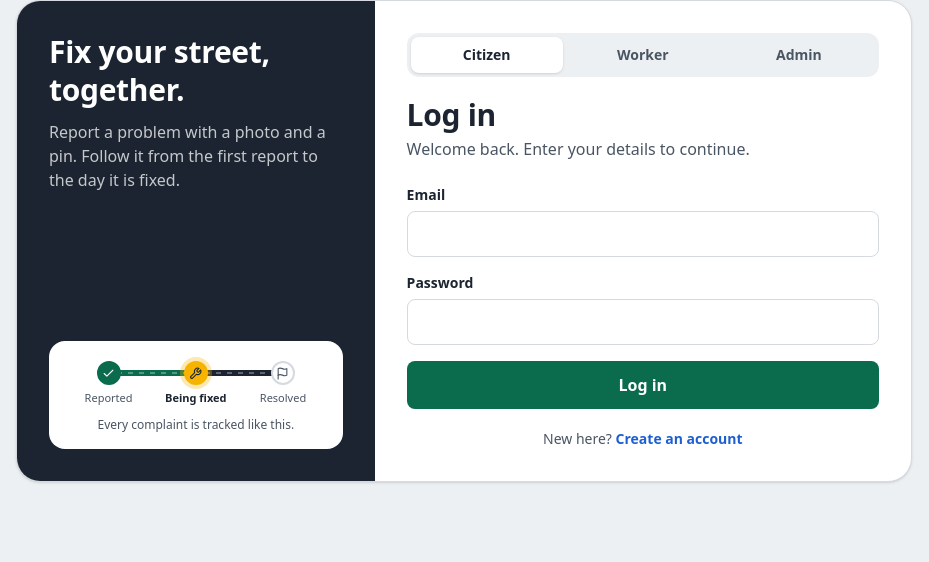
Scenario: login page › shows the server error on bad credentials
Type "t@e.co" into the field labelled "Email".
click(643, 234); type("t@e.co")  # box [407, 211, 879, 257]
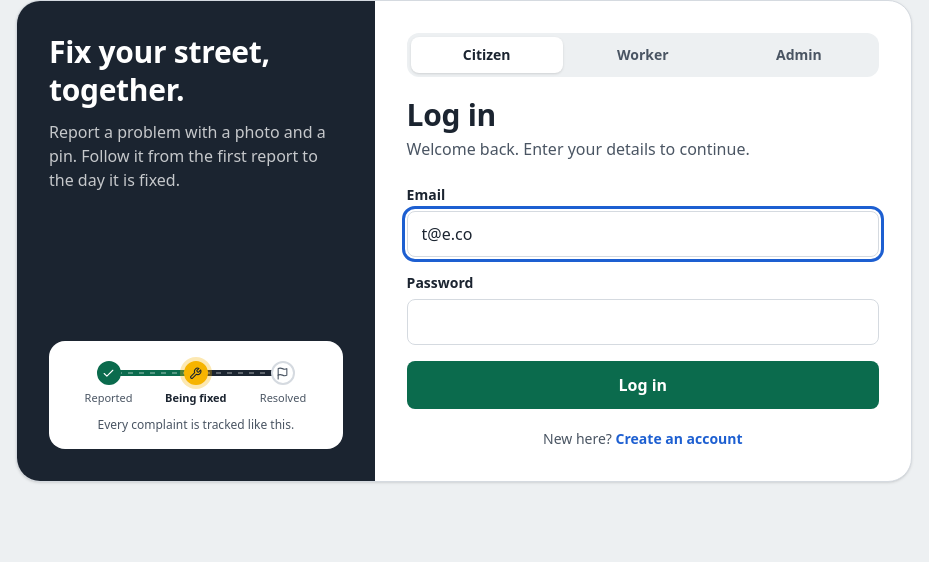
Type "pw" into the password field labelled "Password".
click(643, 322); type("pw")  # box [407, 299, 879, 345]
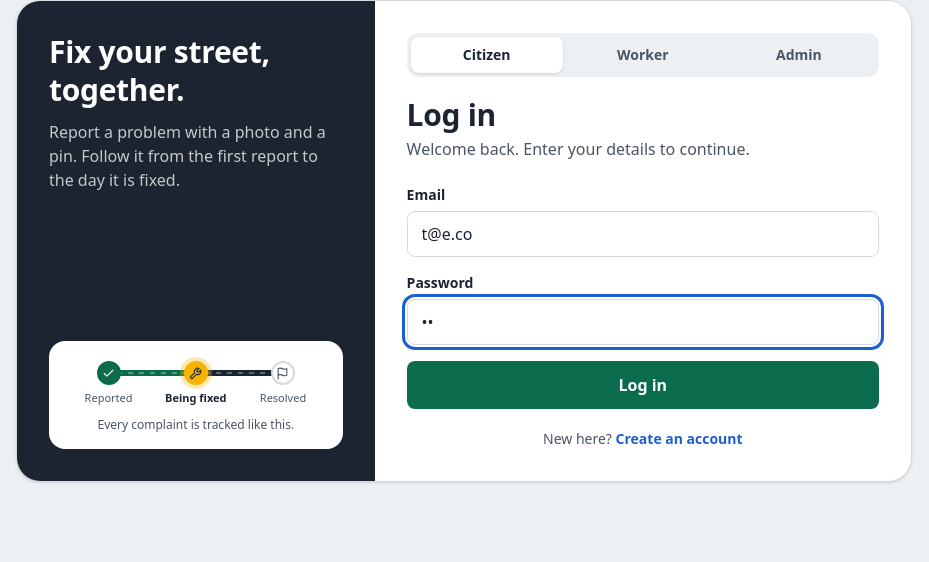
Click the button "Log in".
click(643, 385)  # box [407, 361, 879, 409]
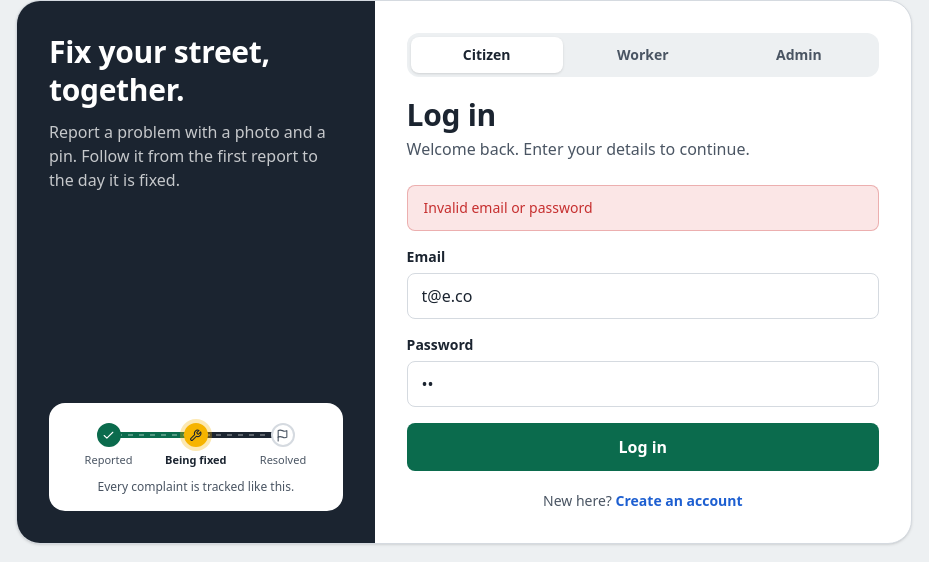
Expected: the message reads "Invalid email or password", [424, 198, 592, 217]
